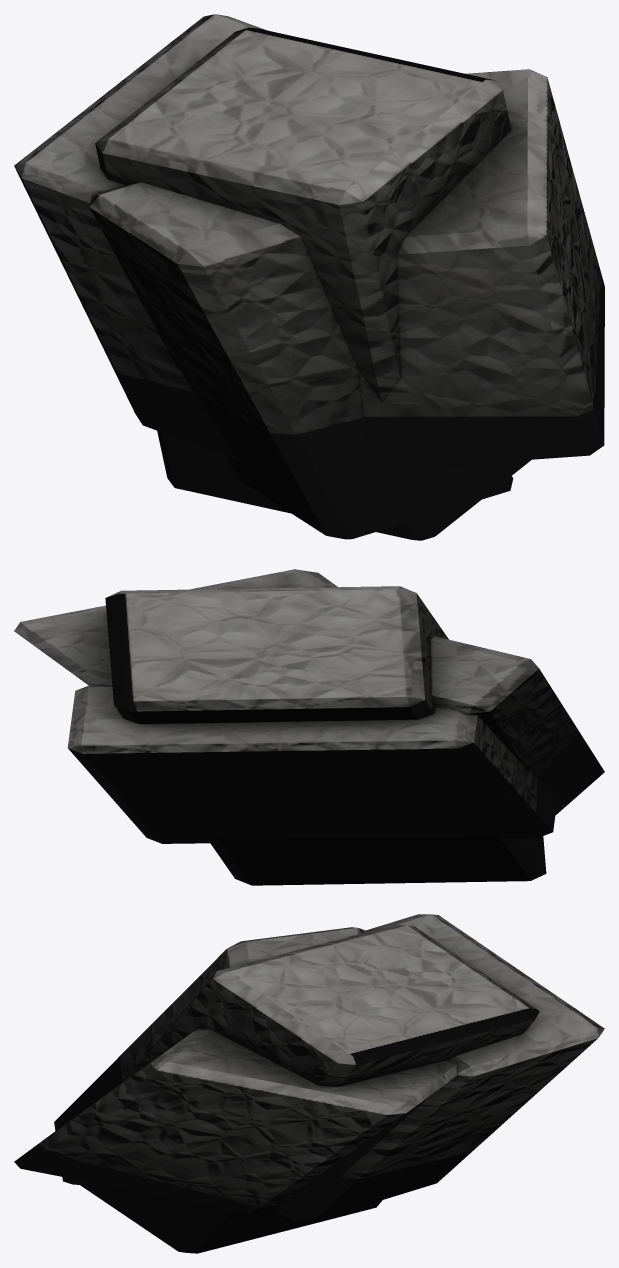
Rendered from PaperPillar.obj.
3 renders of one model, top to bottom at view 1: azimuth 30°, elevation 25°; view 2: azimuth 150°, elevation 25°; view 3: azimuth 270°, elevation 25°, orthographic. The views are drawn at different scales.
Visible parts, largest first — view 1: Cube; view 2: Cube; view 3: Cube.
Boxes of the visible parts, x1=… form: Cube: x1=14, y1=14, x2=604, y2=540; Cube: x1=14, y1=569, x2=604, y2=885; Cube: x1=14, y1=914, x2=604, y2=1253.
Bounding box in the file's own units: 1.02 × 0.516 × 1.32.
